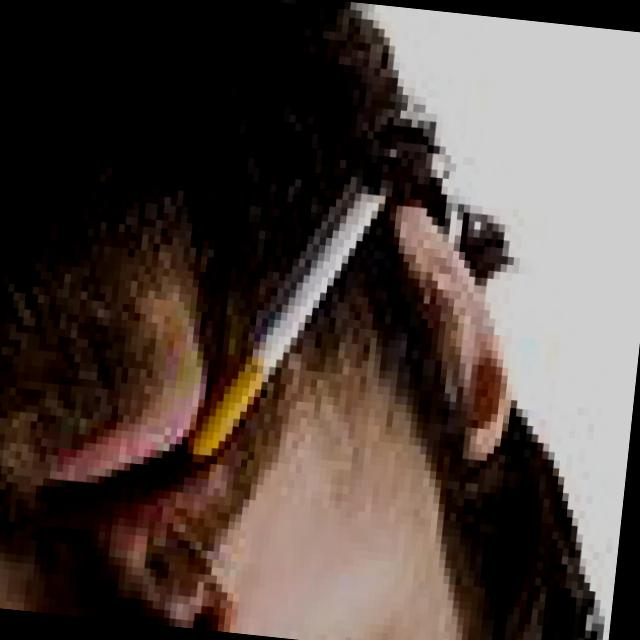smoke: (168, 114, 410, 502)
